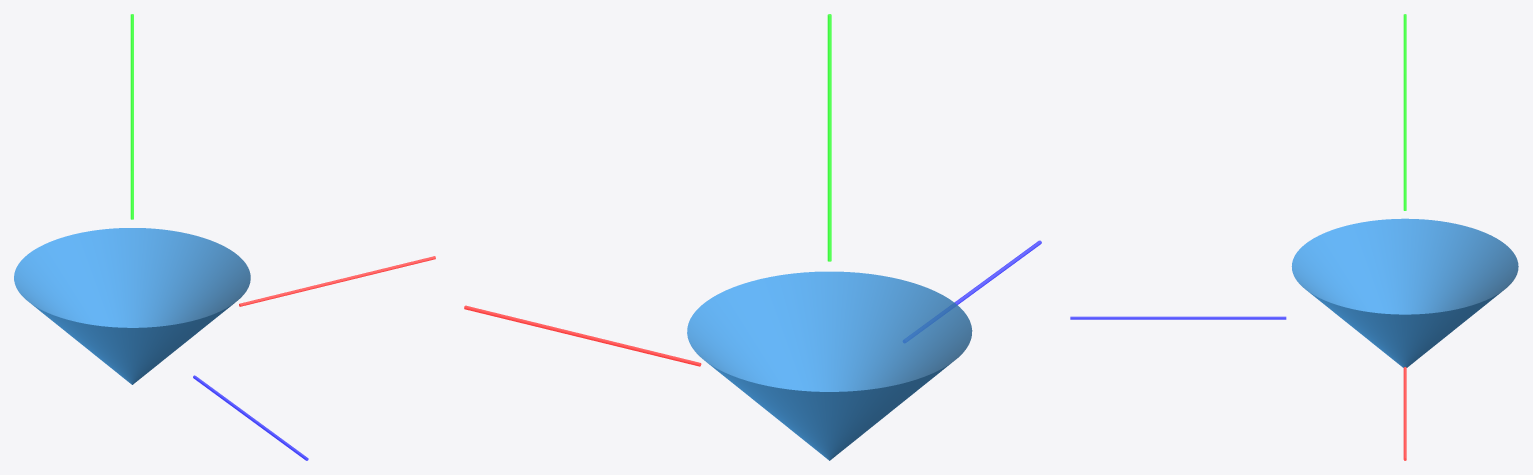
The model's file is solid-of-revolution-cone.glb.
The picture shows the model from 3 angles, left to right: view 1: azimuth 30°, elevation 25°; view 2: azimuth 150°, elevation 25°; view 3: azimuth 270°, elevation 25°; orthographic projection. The views are drawn at different scales.
Bounding box in the file's own units: 1.98 × 1.73 × 1.98.
